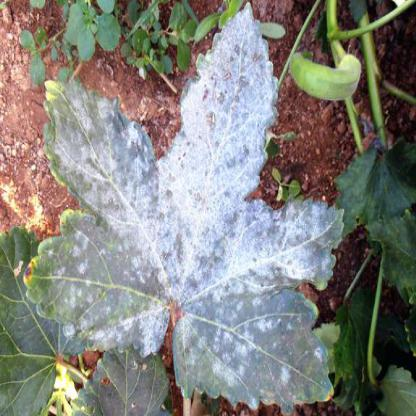Squash Powdery mildew leaf: (23, 9, 352, 400)
